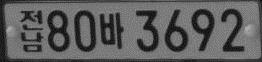0: (73, 9, 97, 52)
2: (220, 8, 245, 53)
3: (134, 9, 160, 51)
6: (163, 8, 188, 52)
8: (46, 9, 71, 53)
9: (190, 8, 215, 51)
바: (99, 12, 124, 49)
전남_V: (18, 9, 45, 53)
